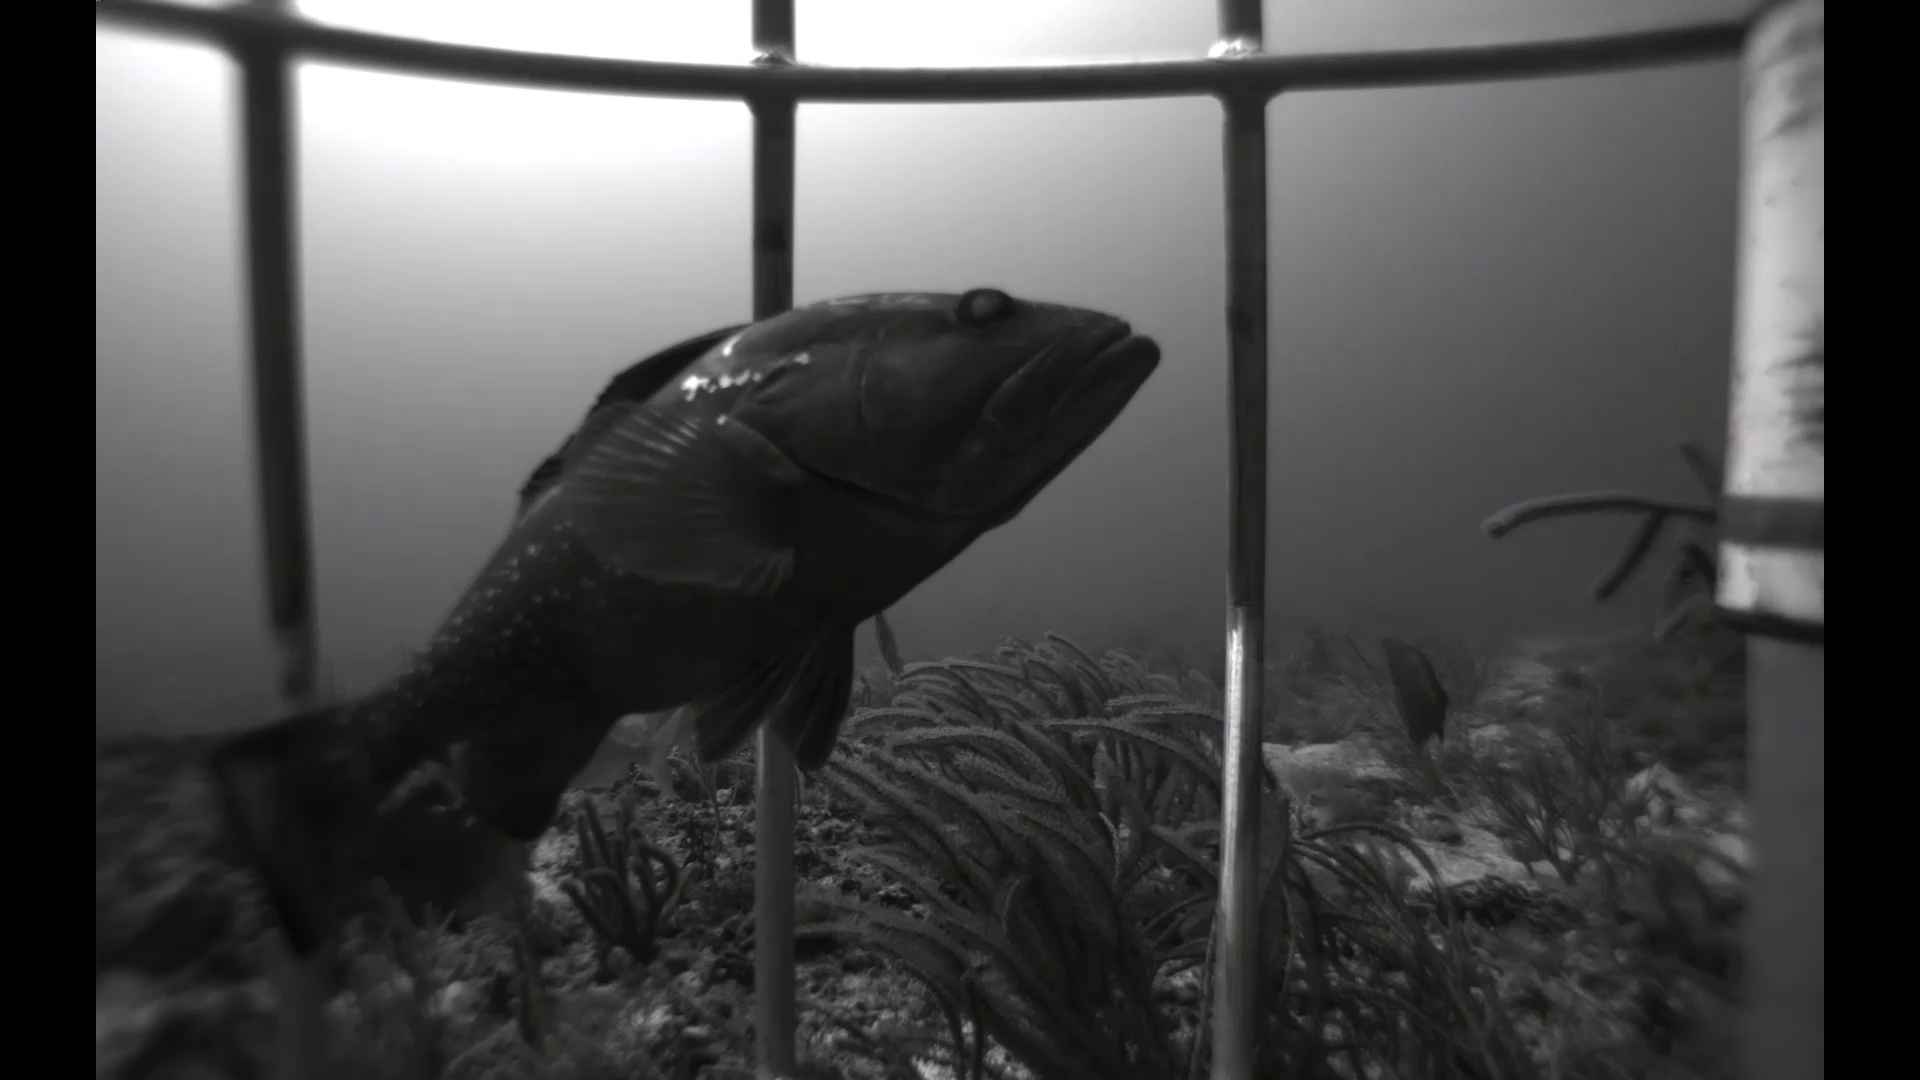CALAMUSNODOSUS-170210608: (1625, 472, 1745, 675), (571, 700, 698, 822)
EPINEPHELUSMORIO-170021211: (177, 266, 1188, 972), (355, 731, 541, 924), (1683, 642, 1750, 694)
LUTJANUSGRISEUS-170151109: (389, 632, 436, 676)
POMACANTHUSARCUATUS-170290201: (1374, 626, 1466, 766)
